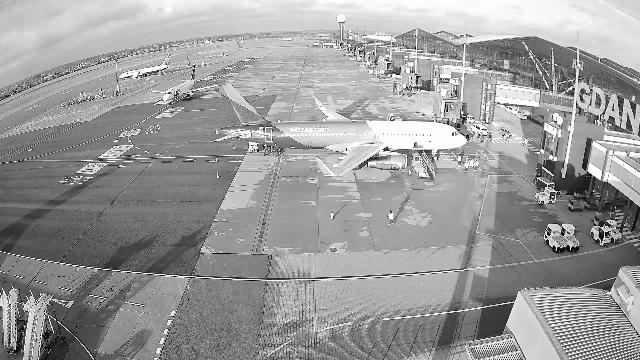Aircraft: (212, 83, 467, 176), (151, 64, 218, 101), (118, 53, 171, 79)
Airport_Tractor: (543, 223, 567, 252), (560, 223, 580, 252), (601, 220, 622, 244), (589, 226, 612, 246), (535, 186, 556, 204), (386, 114, 402, 121)
Baggage_Trolley: (536, 176, 555, 190), (584, 196, 599, 210), (594, 215, 608, 229), (569, 200, 585, 212), (574, 190, 588, 200)
Conveyor_Belt: (410, 151, 436, 179), (418, 106, 435, 116)
Ground_Crew: (387, 210, 394, 226), (456, 155, 461, 167), (464, 161, 469, 173), (474, 160, 479, 172)
Passengers: (470, 133, 474, 142), (476, 132, 480, 140), (488, 134, 492, 142), (481, 134, 484, 142), (507, 133, 510, 141), (466, 133, 469, 140), (524, 139, 527, 146)
